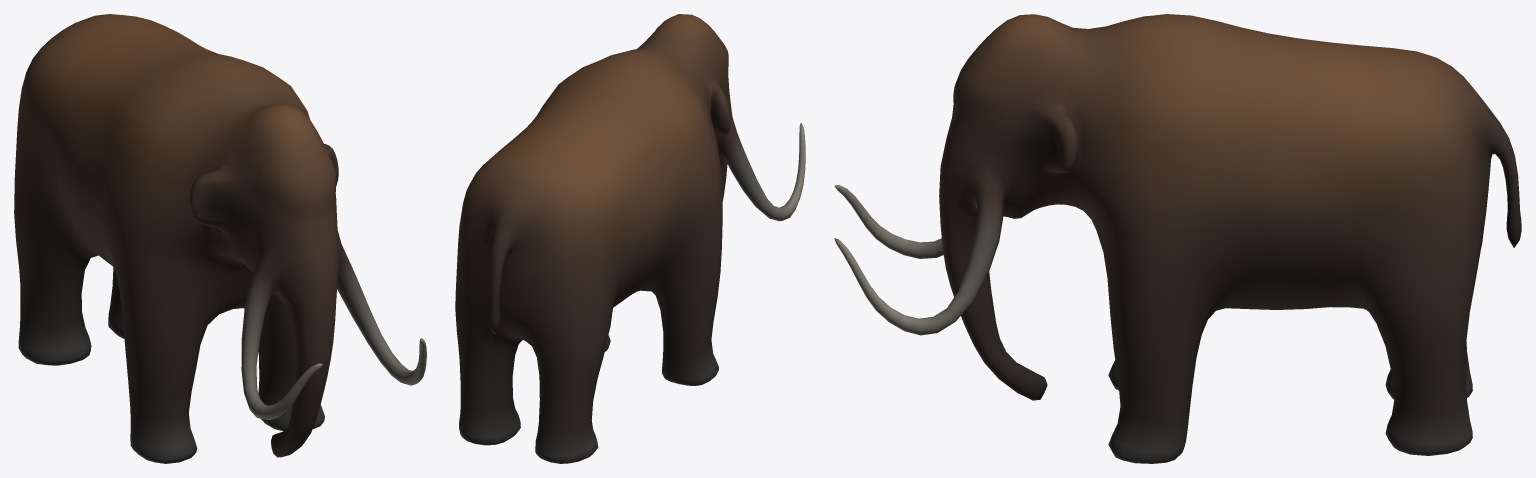
The model's file is elephant_draco.glb.
3 renders of one model, left to right at view 1: azimuth 30°, elevation 25°; view 2: azimuth 150°, elevation 25°; view 3: azimuth 270°, elevation 25°, orthographic. The views are drawn at different scales.
Visible parts, largest first — view 1: elephant; view 2: elephant; view 3: elephant.
Boxes of the visible parts, x1,y1,x2,y2 form: elephant: (14,14,426,463); elephant: (455,14,805,463); elephant: (834,14,1521,463).
Bounding box in the file's own units: 1.38 × 2.45 × 3.79.
